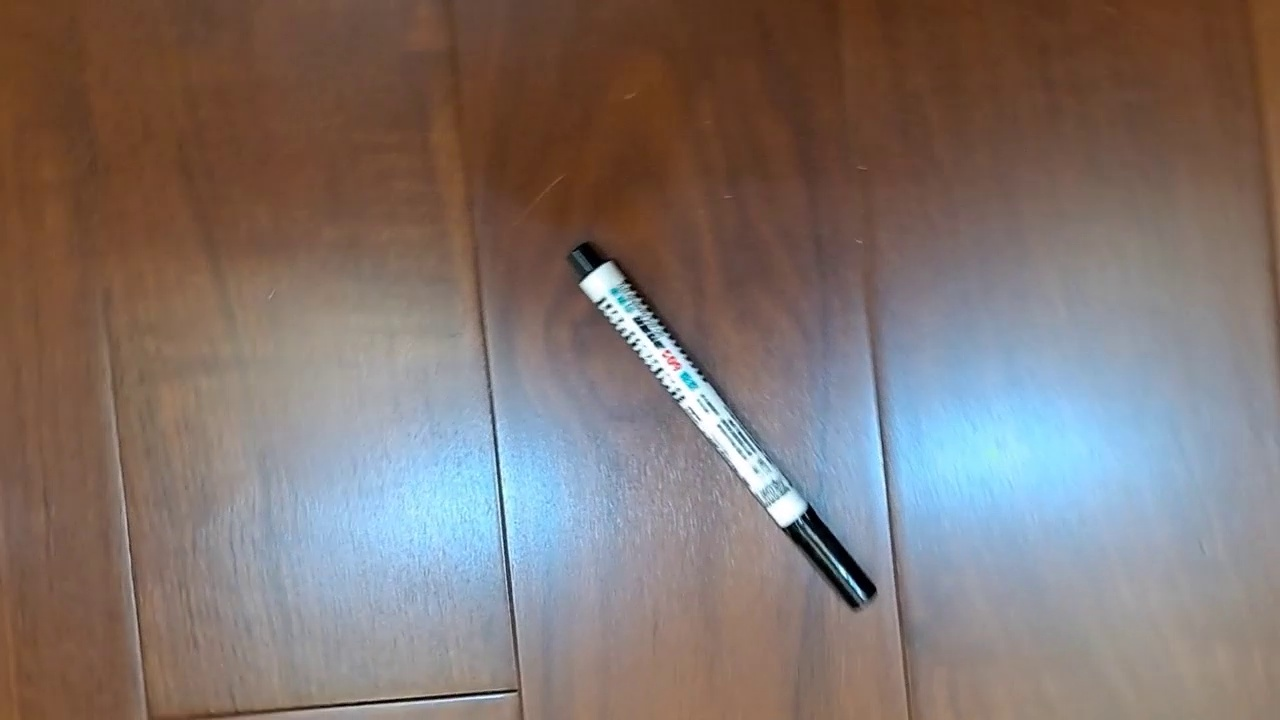pen: (565, 240, 879, 614)
